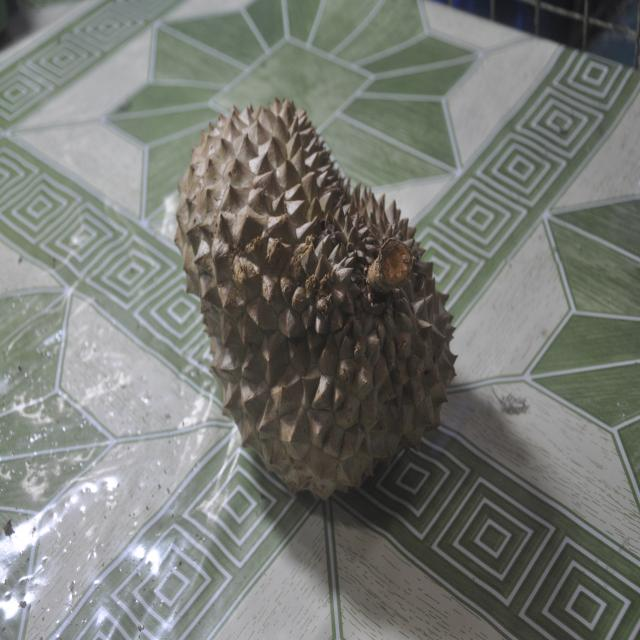mature: (157, 58, 466, 512)
